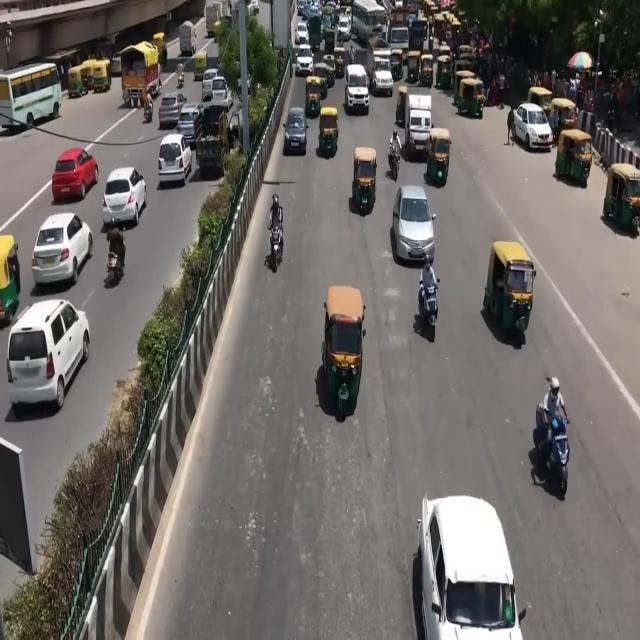auto: (322, 286, 366, 416), (484, 242, 535, 334), (603, 162, 639, 232), (555, 128, 594, 187), (0, 235, 21, 324), (352, 147, 376, 211), (426, 129, 452, 185), (456, 74, 484, 118), (318, 106, 339, 157), (305, 75, 325, 119), (88, 59, 112, 92), (205, 2, 224, 38), (68, 64, 88, 98), (313, 62, 331, 98), (419, 52, 434, 87), (396, 85, 408, 127), (322, 53, 337, 86), (390, 48, 404, 82), (152, 32, 166, 65), (332, 46, 346, 79), (193, 51, 208, 81), (562, 106, 580, 131)
bike-auto: (533, 402, 570, 494), (418, 268, 441, 334), (544, 378, 568, 432), (270, 191, 284, 261), (106, 240, 125, 282), (389, 130, 400, 170), (144, 92, 153, 122), (348, 44, 354, 64)
